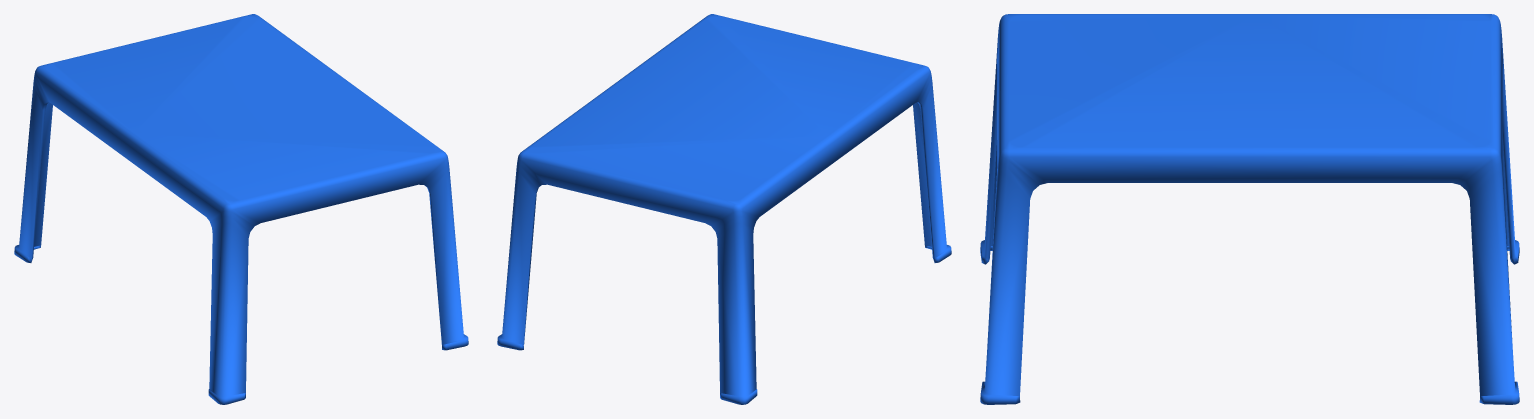
File: blue_table.fbx
3 renders of one model, left to right at view 1: azimuth 30°, elevation 25°; view 2: azimuth 150°, elevation 25°; view 3: azimuth 270°, elevation 25°, orthographic. The views are drawn at different scales.
Parts seen in each view (by area): view 1: Blue Table; view 2: Blue Table; view 3: Blue Table.
Part boxes in pixels (box(x1,y1,x2,y2)): Blue Table: box(14, 14, 468, 404); Blue Table: box(497, 14, 951, 404); Blue Table: box(980, 14, 1519, 404).
Bounding box in the file's own units: 145 × 106 × 210.
Materials: 1 (1 with a texture image).
